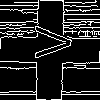V: (25, 25, 72, 60)
